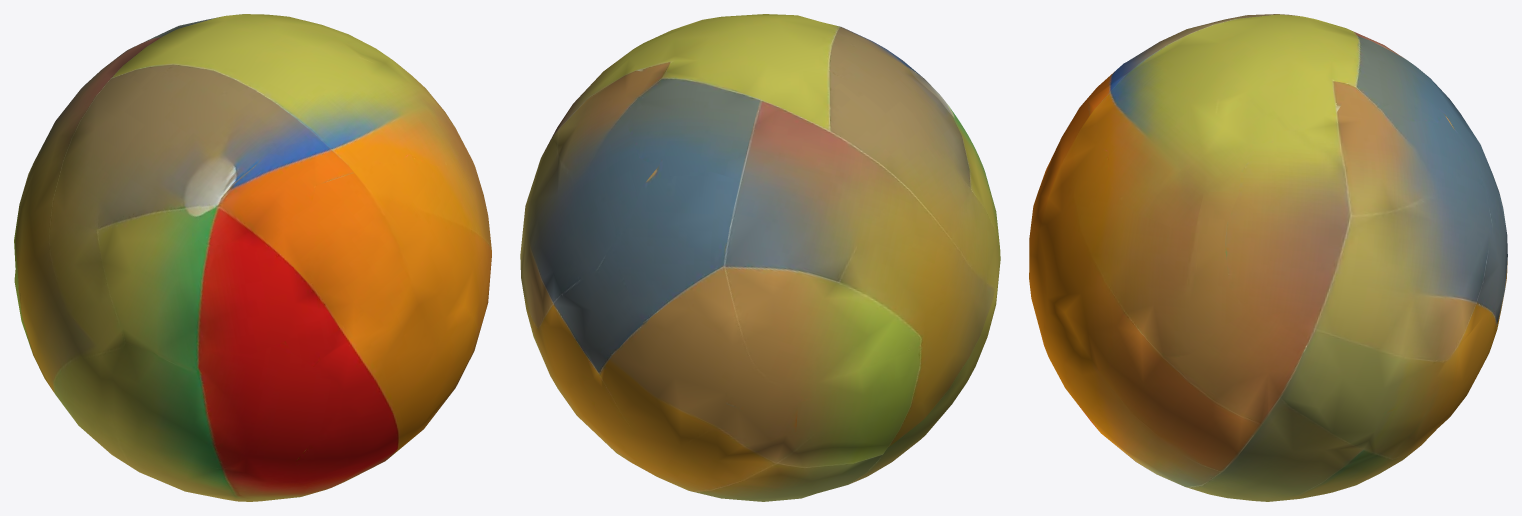
The model's file is toit-ballon.glb.
3 views of the same model, side by side, from view 1: azimuth 30°, elevation 25°; view 2: azimuth 150°, elevation 25°; view 3: azimuth 270°, elevation 25° (orthographic).
Bounding box in the file's own units: 1.9 × 1.9 × 1.9.
Materials: 1 (1 with a texture image).
